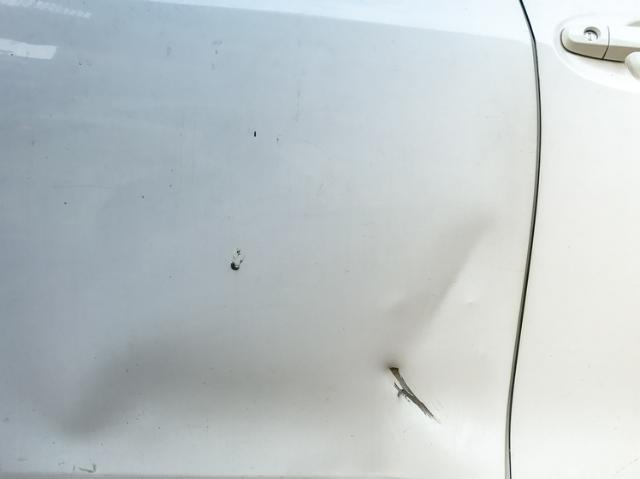Door: (27, 47, 512, 479)
